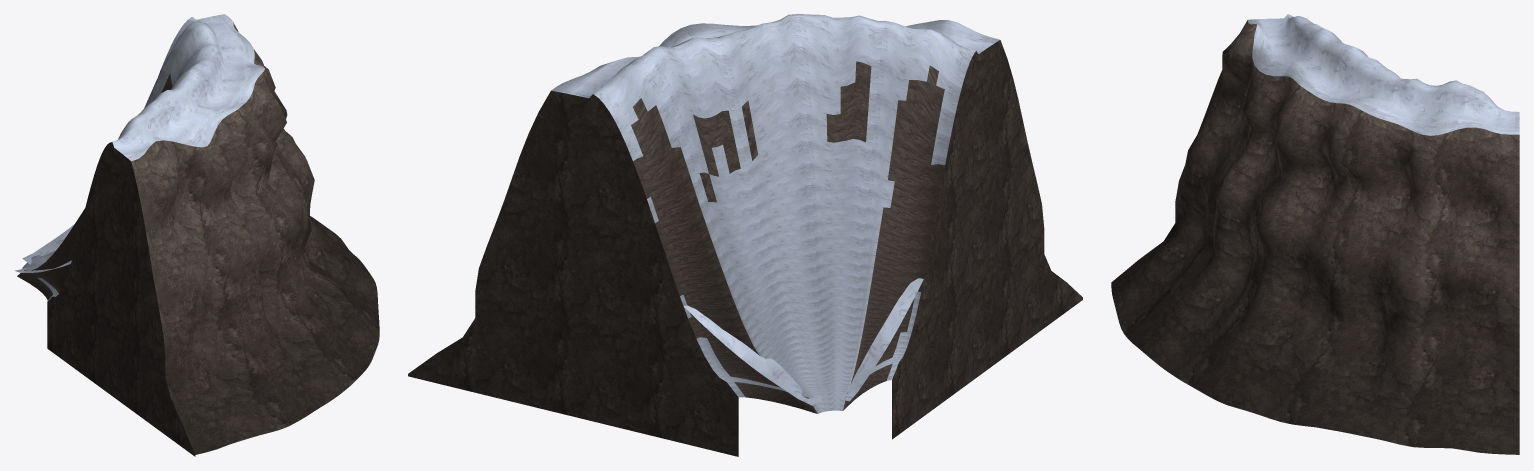
File: seacliff_outer_h5_v5_winter.glb
The picture shows the model from 3 angles, left to right: view 1: azimuth 30°, elevation 25°; view 2: azimuth 150°, elevation 25°; view 3: azimuth 270°, elevation 25°; orthographic projection. The views are drawn at different scales.
Parts seen in each view (by area): view 1: seacliff_outer_h5; view 2: seacliff_outer_h5; view 3: seacliff_outer_h5.
Part boxes in pixels (x1,y1,x2,y2): seacliff_outer_h5: [14, 14, 379, 456]; seacliff_outer_h5: [408, 14, 1082, 456]; seacliff_outer_h5: [1111, 14, 1519, 454].
Bounding box in the file's own units: 9.01 × 7.21 × 9.01.
Materials: 2 (2 with a texture image).
